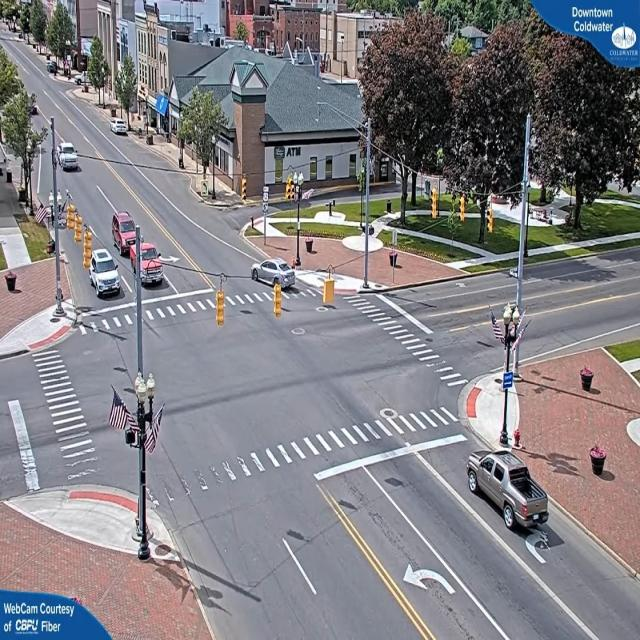car: (467, 450, 552, 537), (88, 252, 122, 296), (252, 260, 296, 290), (132, 244, 163, 285), (114, 212, 142, 256), (56, 144, 80, 172), (111, 120, 129, 137)
